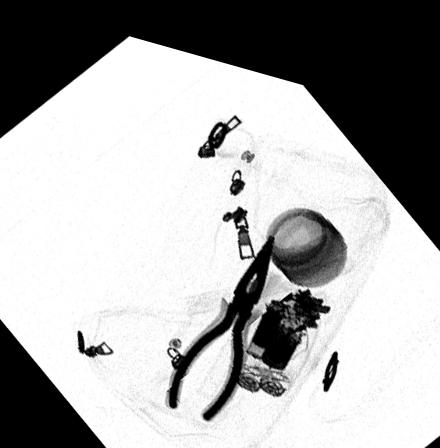Pliers: (166, 217, 276, 412)
